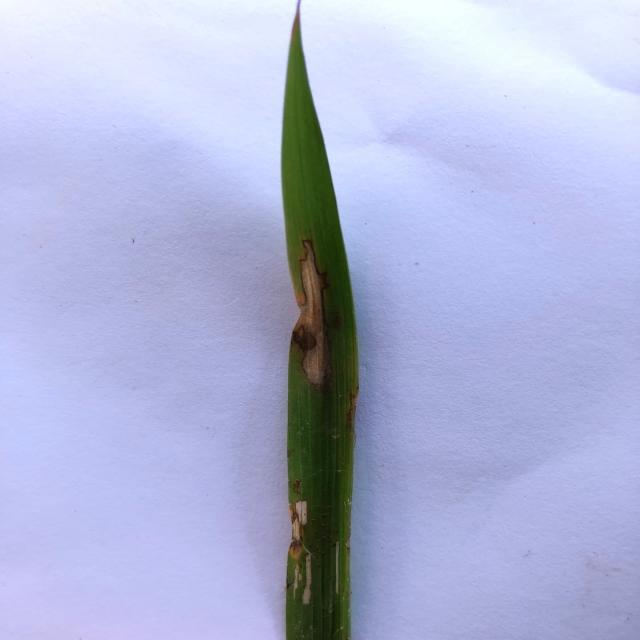Leaf Blight: (288, 240, 330, 387), (289, 501, 307, 596), (303, 554, 312, 605)
